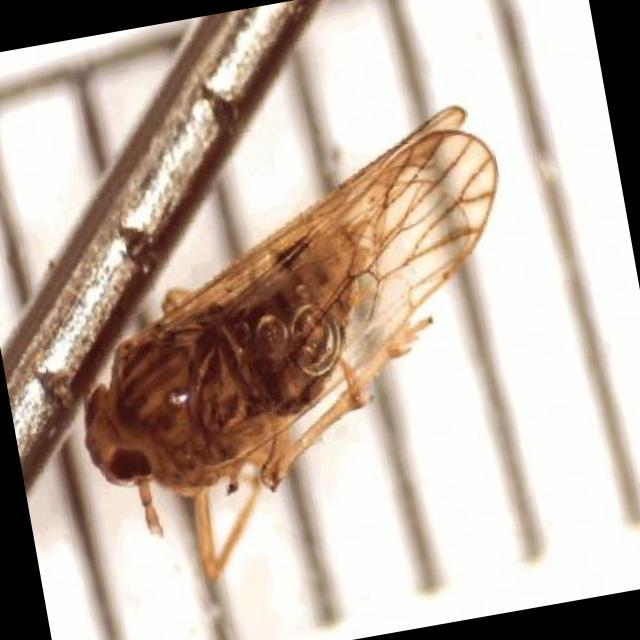brown-planthopper: (83, 105, 500, 506)
